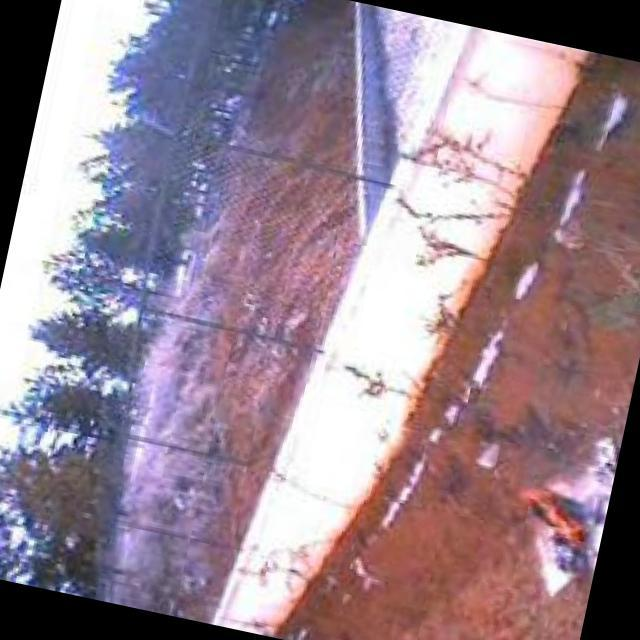Fire: (500, 474, 605, 570)
